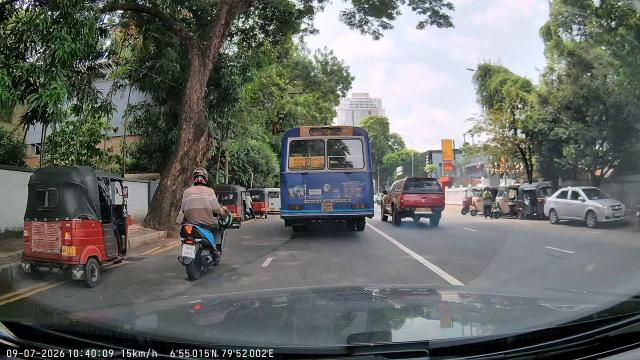illegal overtaking: (388, 172, 449, 230)
